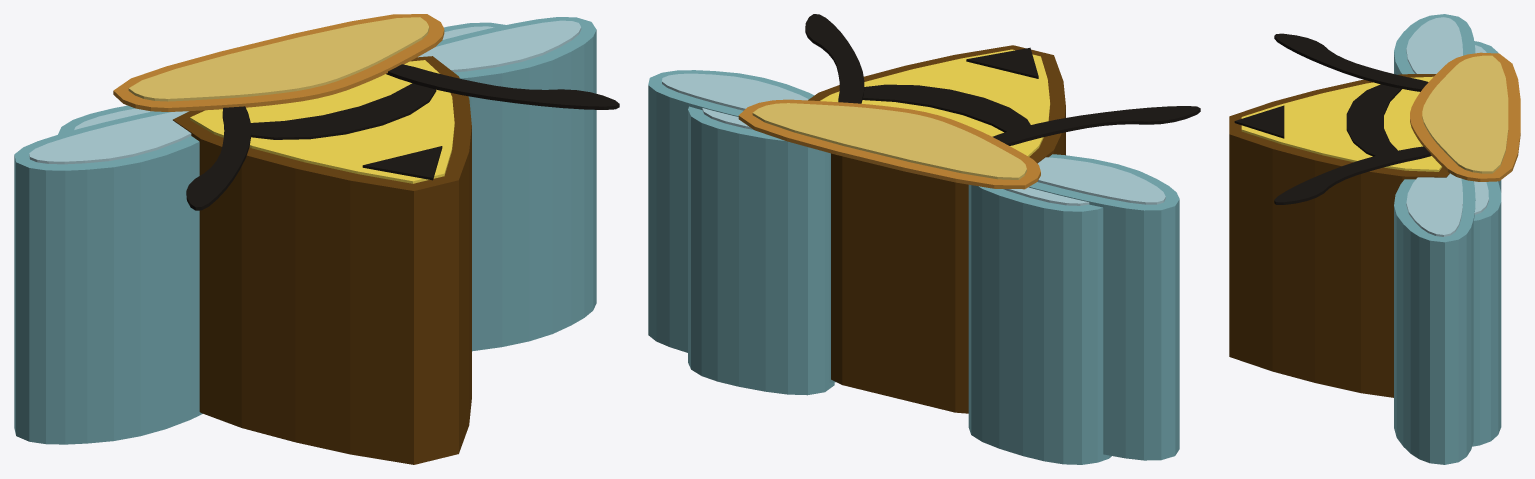
File: bag_abelha.fbx
3 renders of one model, left to right at view 1: azimuth 30°, elevation 25°; view 2: azimuth 150°, elevation 25°; view 3: azimuth 270°, elevation 25°, orthographic. The views are drawn at different scales.
Parts seen in each view (by area): view 1: bag_abelha_mochila; view 2: bag_abelha_mochila; view 3: bag_abelha_mochila.
Part boxes in pixels (left/top/right/bottom): bag_abelha_mochila: left=14, top=14, right=619, bottom=464; bag_abelha_mochila: left=648, top=14, right=1200, bottom=464; bag_abelha_mochila: left=1229, top=14, right=1520, bottom=464.
Bounding box in the file's own units: 3.47 × 1.72 × 1.88.
Materials: 1 (1 with a texture image).
